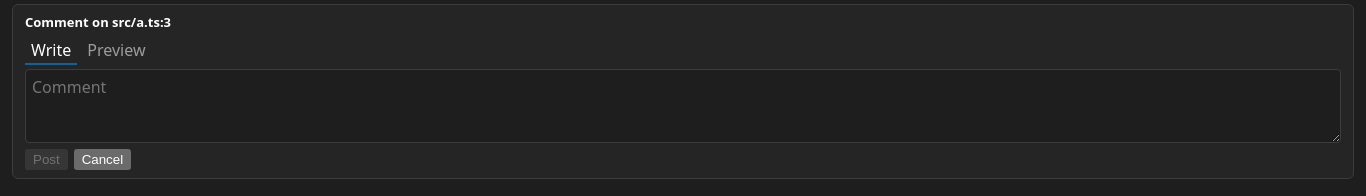
LineComment › disables Post while a post is in flight
The width and height of the screenshot is (1366, 196).
Type "why?" into the text box.
click(683, 106); type("why?")  # box top-left (25, 69), bottom-right (1341, 143)
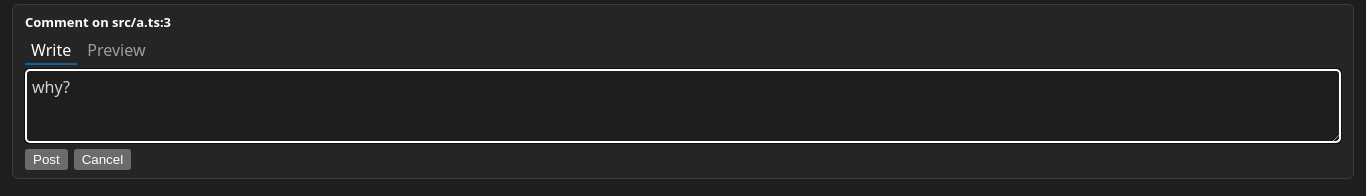
Click the button "Post".
click(46, 160)  # box top-left (25, 149), bottom-right (68, 170)
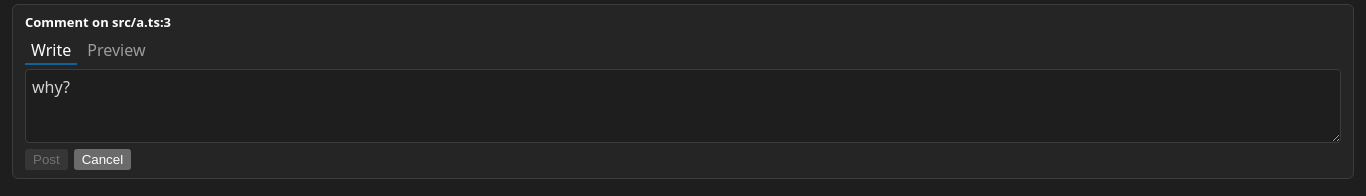
expect the button "Post" is disabled: met, box top-left (25, 149), bottom-right (68, 170)
